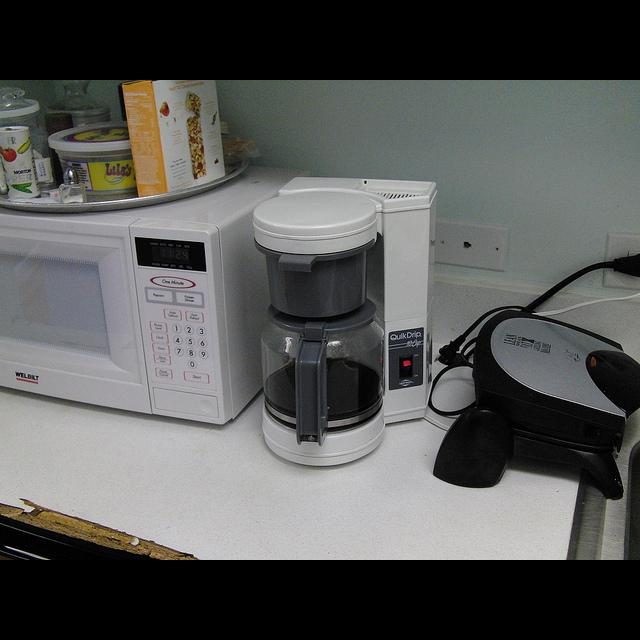Microwave: (0, 165, 312, 429)
